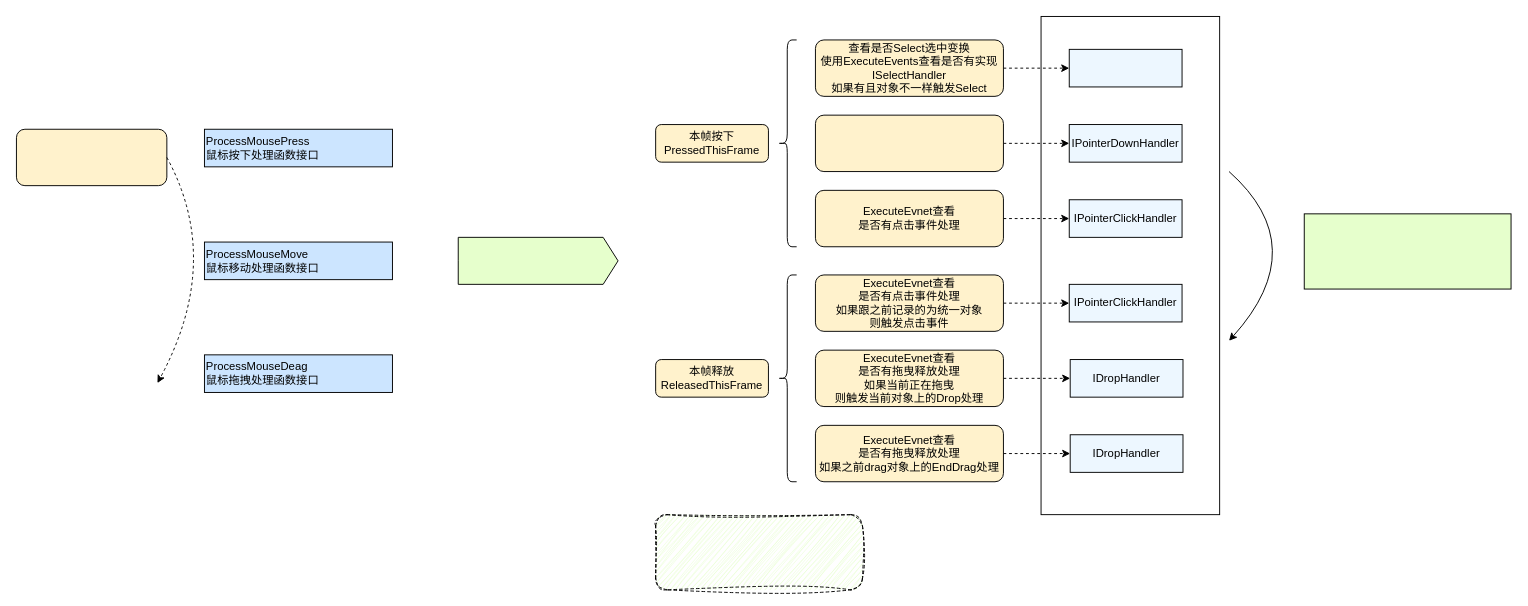
Some shapes in this 1528 by 606 pixel diagram are drawn without their labels. Here are the shapes that lost their labels. From the top down, the box of each, then its label:
(1068, 48, 1182, 87): ISelectHandler
(16, 128, 167, 186): 按顺序对各个函数调用 处理鼠标的左中右点击数据
(815, 114, 1003, 172): ExecuteEvnet递归查看 是否鼠标点击按下事件处理实现
(457, 236, 618, 284): 以ProcessMousePress 处理为例 函数区分按下与抬起部分
(1040, 16, 1220, 515): 借助ExecuteEvnet静态类中的 泛型接口来实现查找
(1303, 213, 1511, 289): 点击与按压事件记录下来 用于当抬起的时候判断是否统一物体 这相当于点击只有释放的时候才能断定 如果时不同物体则也不触发点击
(655, 514, 862, 590): 还有各种细节的如 离开的处理这里不在画出 大体来说时根据对应事件的特征需求 封装的处理方式 例如点击要释放的时候再去判定
